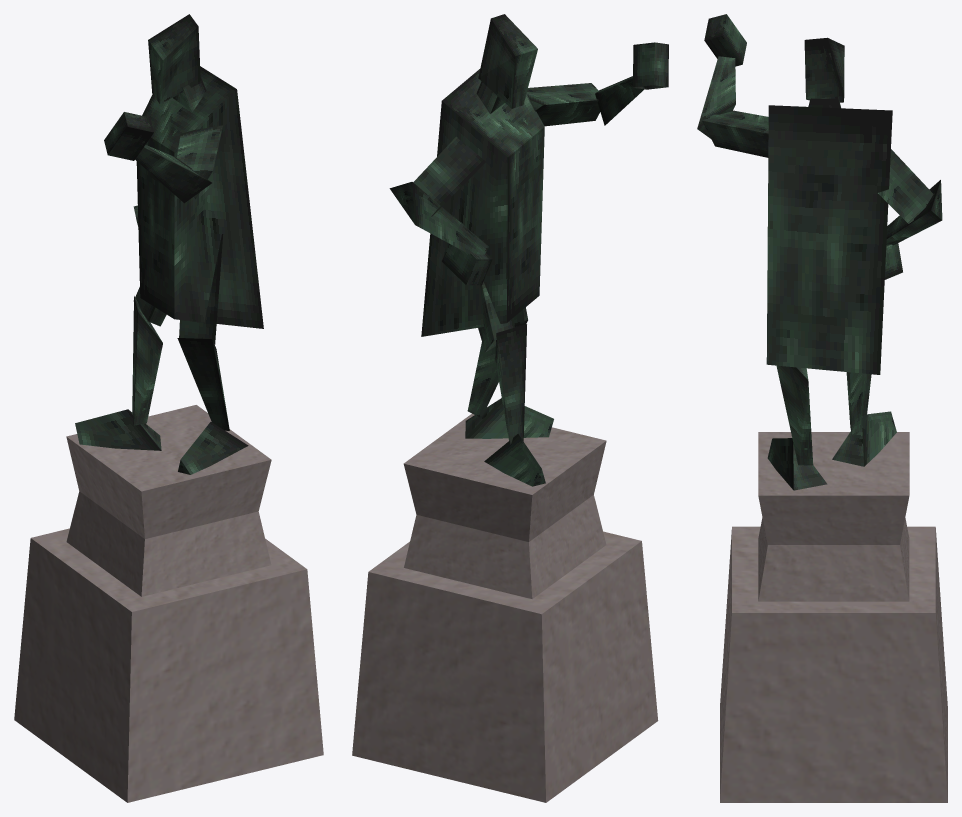
File: Statue_Mann_2161.glb
3 views of the same model, side by side, from view 1: azimuth 30°, elevation 25°; view 2: azimuth 150°, elevation 25°; view 3: azimuth 270°, elevation 25° (orthographic).
Visible parts, largest first — view 1: pCubeShape2, pCubeShape1, pCubeShape4, pCubeShape5, pCylinderShape1, pCylinderShape11, pCylinderShape2, pCylinderShape10, pCylinderShape6, pCubeShape9, pCylinderShape9, pCylinderShape3 (+1 smaller); view 2: pCubeShape2, pCubeShape1, pCubeShape4, pCubeShape5, pCylinderShape1, pCylinderShape8, pCylinderShape9, pCylinderShape7, pCylinderShape6, pCylinderShape11, pCubeShape9, pCylinderShape2 (+3 smaller); view 3: pCubeShape2, pCubeShape4, pCubeShape1, pCubeShape5, pCylinderShape9, pCylinderShape2, pCylinderShape7, pCylinderShape11, pCylinderShape10, pCylinderShape6, pCubeShape9, pCylinderShape8 (+2 smaller).
Boxes of the visible parts, left/top/right/bottom form: pCubeShape2: left=14, top=528, right=323, bottom=802; pCubeShape1: left=66, top=405, right=271, bottom=596; pCubeShape4: left=136, top=66, right=263, bottom=328; pCubeShape5: left=148, top=14, right=200, bottom=103; pCylinderShape1: left=132, top=296, right=162, bottom=425; pCylinderShape11: left=75, top=409, right=161, bottom=450; pCylinderShape2: left=177, top=338, right=229, bottom=430; pCylinderShape10: left=135, top=145, right=211, bottom=203; pCylinderShape6: left=178, top=422, right=248, bottom=474; pCubeShape9: left=104, top=112, right=153, bottom=160; pCylinderShape9: left=176, top=125, right=222, bottom=199; pCylinderShape3: left=179, top=234, right=223, bottom=344; pCubeShape2: left=352, top=531, right=658, bottom=802; pCubeShape1: left=403, top=413, right=606, bottom=598; pCubeShape4: left=421, top=69, right=544, bottom=336; pCubeShape5: left=478, top=14, right=537, bottom=108; pCylinderShape1: left=495, top=324, right=526, bottom=444; pCylinderShape8: left=389, top=182, right=488, bottom=254; pCylinderShape9: left=526, top=83, right=600, bottom=126; pCylinderShape7: left=413, top=136, right=485, bottom=216; pCylinderShape6: left=465, top=398, right=553, bottom=438; pCylinderShape11: left=484, top=434, right=545, bottom=486; pCubeShape9: left=633, top=42, right=668, bottom=89; pCylinderShape2: left=467, top=307, right=527, bottom=417; pCubeShape2: left=720, top=526, right=947, bottom=802; pCubeShape4: left=766, top=105, right=892, bottom=374; pCubeShape1: left=758, top=432, right=909, bottom=601; pCubeShape5: left=804, top=37, right=844, bottom=102; pCylinderShape9: left=702, top=110, right=768, bottom=157; pCylinderShape2: left=776, top=365, right=813, bottom=465; pCylinderShape7: left=878, top=149, right=933, bottom=223; pCylinderShape11: left=832, top=411, right=896, bottom=466; pCylinderShape10: left=697, top=56, right=735, bottom=138; pCylinderShape6: left=767, top=438, right=827, bottom=490; pCubeShape9: left=704, top=14, right=746, bottom=66; pCylinderShape8: left=886, top=180, right=942, bottom=245.
Bounding box in the file's own units: 0.3516 × 1.15 × 0.359.
17 materials, 17 textured.
